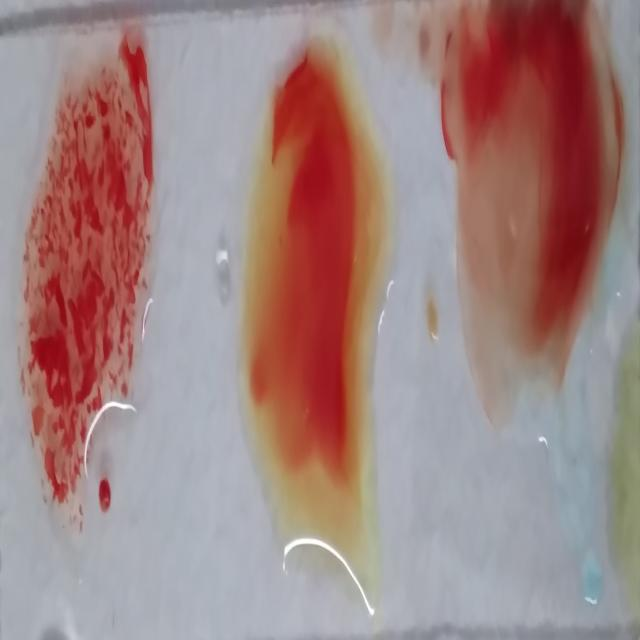D: (16, 24, 157, 522)
